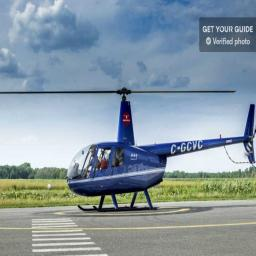helicopter: (3, 81, 256, 217)
